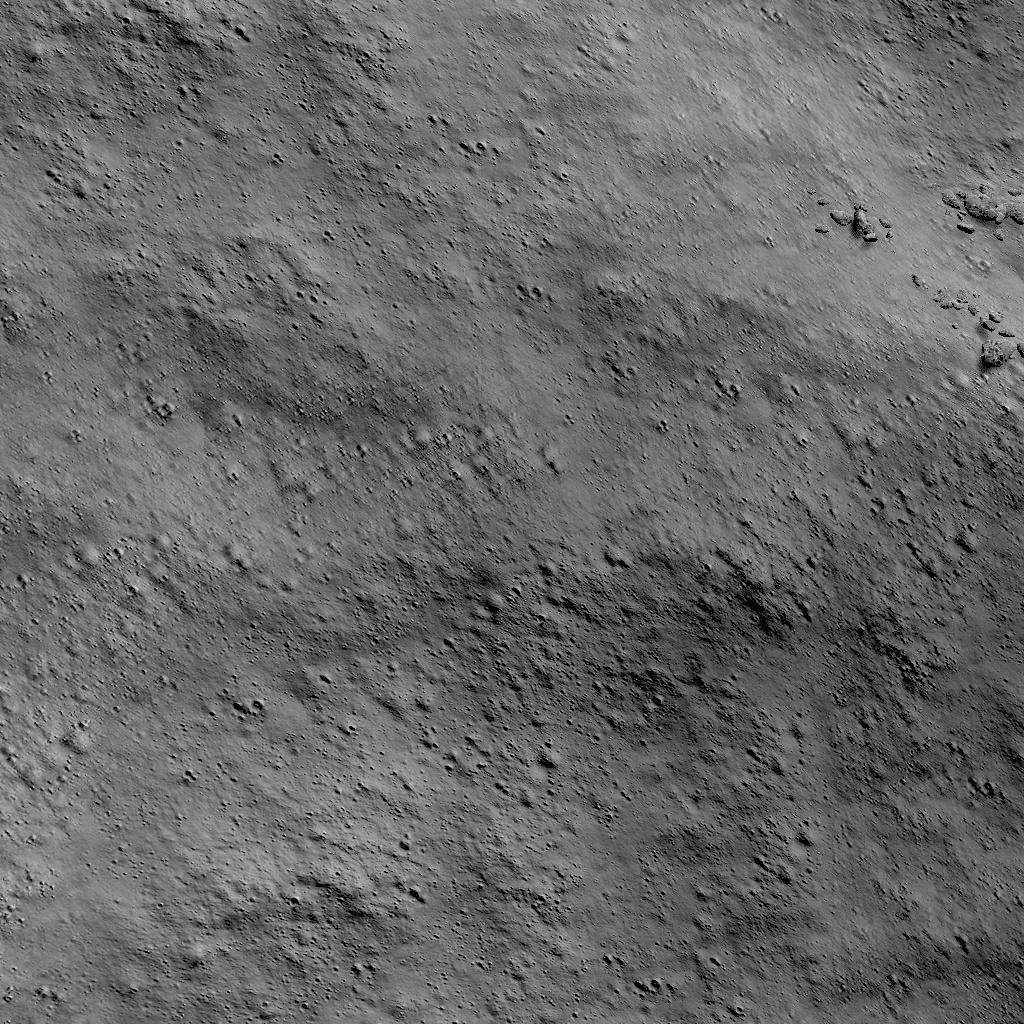Plan surface: (7, 384, 1024, 1024), (0, 8, 803, 370), (821, 0, 1024, 181)
